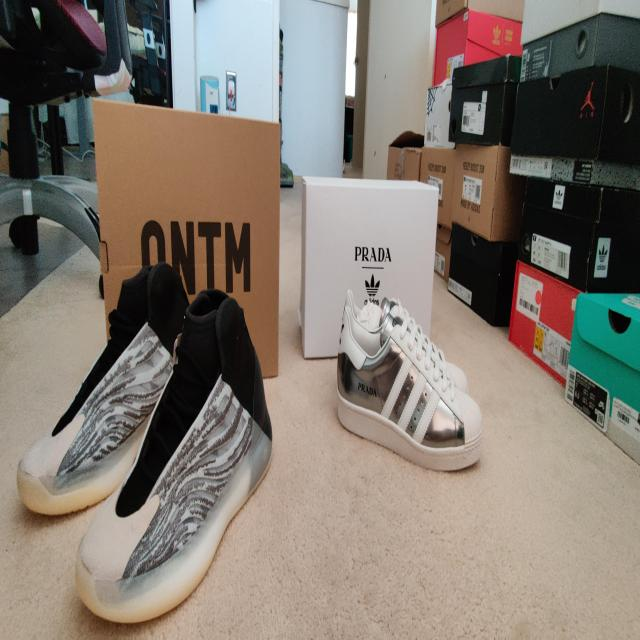shoe: (70, 277, 278, 640), (13, 244, 192, 529), (333, 281, 488, 484)
